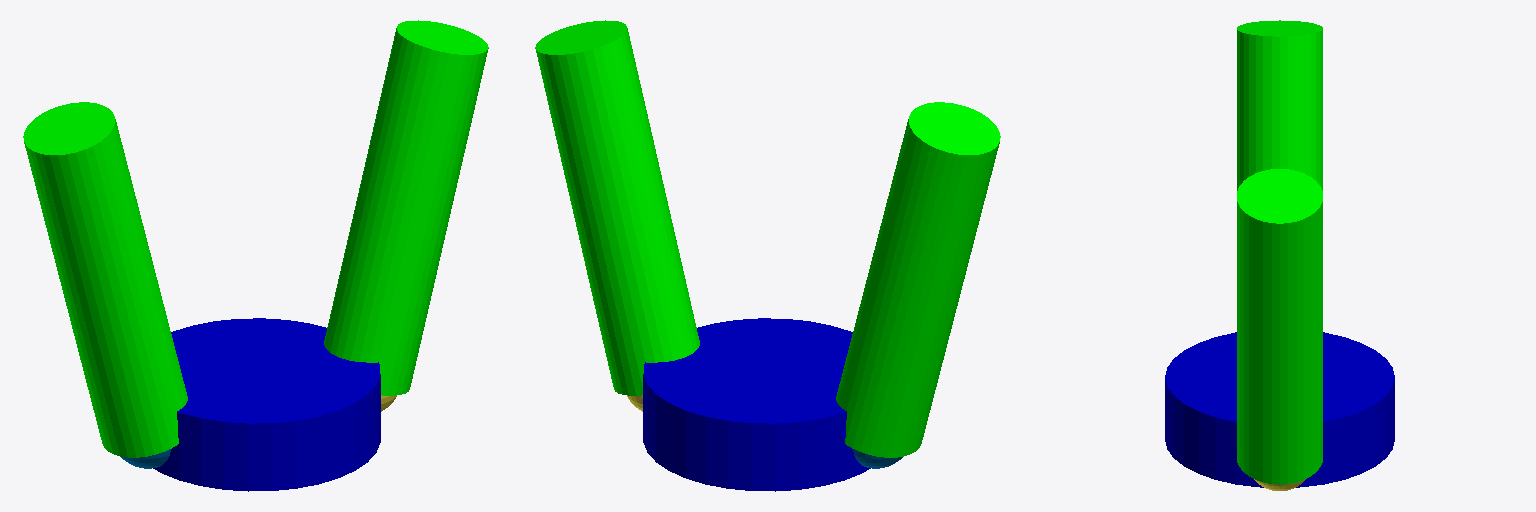
The robot description file, URDF, robot "gripper_2f_1j":
<?xml version='1.0' encoding='UTF-8'?>
<robot name="gripper_2f_1j">
  <link name="palm">
    <inertial>
      <origin xyz="0.0 0.0 0.0" rpy="0.0 -0.0 0.0"/>
      <mass value="1.0"/>
      <inertia ixx="1.0" ixy="0.0" ixz="0.0" iyy="1.0" iyz="0.0" izz="1.0"/>
    </inertial>
    <visual>
      <geometry>
        <cylinder radius="0.05" length="0.03"/>
      </geometry>
      <material name="blue"/>
      <origin xyz="0.0 0.0 0.0" rpy="0.0 -0.0 0.0"/>
    </visual>
    <collision>
      <geometry>
        <cylinder radius="0.05" length="0.03"/>
      </geometry>
      <origin xyz="0.0 0.0 0.0" rpy="0.0 0.0 0.0"/>
    </collision>
  </link>
  <link name="f11">
    <inertial>
      <origin xyz="0.0 0.0 0.0" rpy="0.0 -0.0 0.0"/>
      <mass value="1.0"/>
      <inertia ixx="1.0" ixy="0.0" ixz="0.0" iyy="1.0" iyz="0.0" izz="1.0"/>
    </inertial>
    <visual>
      <geometry>
        <cylinder radius="0.01890600584976047" length="0.14670515770586923"/>
      </geometry>
      <material name="green"/>
      <origin xyz="0.0 0.0 0.07335257885293461" rpy="0.0 -0.0 0.0"/>
    </visual>
    <collision>
      <geometry>
        <cylinder radius="0.01890600584976047" length="0.14670515770586923"/>
      </geometry>
      <origin xyz="0.0 0.0 0.05" rpy="0.0 0.0 0.0"/>
    </collision>
  </link>
  <link name="f21">
    <inertial>
      <origin xyz="0.0 0.0 0.0" rpy="0.0 -0.0 0.0"/>
      <mass value="1.0"/>
      <inertia ixx="1.0" ixy="0.0" ixz="0.0" iyy="1.0" iyz="0.0" izz="1.0"/>
    </inertial>
    <visual>
      <geometry>
        <cylinder radius="0.01890600584976047" length="0.14670515770586923"/>
      </geometry>
      <material name="green"/>
      <origin xyz="0.0 0.0 0.07335257885293461" rpy="0.0 -0.0 0.0"/>
    </visual>
    <collision>
      <geometry>
        <cylinder radius="0.01890600584976047" length="0.14670515770586923"/>
      </geometry>
      <origin xyz="0.0 0.0 0.05" rpy="0.0 0.0 0.0"/>
    </collision>
  </link>
  <link name="f11_base">
    <inertial>
      <origin xyz="0.0 0.0 0.0" rpy="0.0 -0.0 0.0"/>
      <mass value="1.0"/>
      <inertia ixx="1.0" ixy="0.0" ixz="0.0" iyy="1.0" iyz="0.0" izz="1.0"/>
    </inertial>
    <visual>
      <geometry>
        <sphere radius="0.015"/>
      </geometry>
      <origin xyz="0.0 0.0 0.0" rpy="0.0 -0.0 0.0"/>
    </visual>
  </link>
  <link name="f21_base">
    <inertial>
      <origin xyz="0.0 0.0 0.0" rpy="0.0 -0.0 0.0"/>
      <mass value="1.0"/>
      <inertia ixx="1.0" ixy="0.0" ixz="0.0" iyy="1.0" iyz="0.0" izz="1.0"/>
    </inertial>
    <visual>
      <geometry>
        <sphere radius="0.015"/>
      </geometry>
      <origin xyz="0.0 0.0 0.0" rpy="0.0 -0.0 0.0"/>
    </visual>
  </link>
  <joint name="f11_joint" type="revolute">
    <dynamics damping="100.0" friction="1.0"/>
    <limit effort="30.0" velocity="2.0" lower="-0.6" upper="0.25"/>
    <parent link="f11_base"/>
    <child link="f11"/>
    <axis xyz="0. 1. 0."/>
    <origin xyz="0.0 0.0 0.0" rpy="0.0 0.25 0.0"/>
  </joint>
  <joint name="f21_joint" type="revolute">
    <dynamics damping="100.0" friction="1.0"/>
    <limit effort="30.0" velocity="2.0" lower="-0.6" upper="0.25"/>
    <parent link="f21_base"/>
    <child link="f21"/>
    <axis xyz=" 0. -1.  0."/>
    <origin xyz="0.0 0.0 0.0" rpy="0.0 -0.25 0.0"/>
  </joint>
  <joint name="f11_base_joint" type="fixed">
    <parent link="palm"/>
    <child link="f11_base"/>
    <axis xyz="1. 0. 0."/>
    <origin xyz="0.05 0.0 0.0" rpy="0.0 0.0 0.0"/>
  </joint>
  <joint name="f21_base_joint" type="fixed">
    <parent link="palm"/>
    <child link="f21_base"/>
    <axis xyz="1. 0. 0."/>
    <origin xyz="-0.05 -0.0 0.0" rpy="0.0 0.0 0.0"/>
  </joint>
  <material name="blue">
    <color rgba="0.  0.  0.8 1. "/>
  </material>
  <material name="green">
    <color rgba="0. 1. 0. 1."/>
  </material>
</robot>

--- Facts derived from the render (not from the file) ---
Views: 3 orthographic renders of the robot side by side, from view 1: azimuth 30°, elevation 25°; view 2: azimuth 150°, elevation 25°; view 3: azimuth 270°, elevation 25°.
Robot: gripper_2f_1j — 5 links, 4 joints (2 revolute, 2 fixed); root link palm; default pose: all joints at 0.
Links seen in each view (by area): view 1: f11, f21, palm; view 2: f11, f21, palm; view 3: f11, palm, f21.
Boxes of the visible links, x1,y1,x2,y2 form: f11: [324, 20, 488, 395]; f21: [23, 102, 187, 457]; palm: [153, 318, 380, 491]; f11: [535, 20, 699, 395]; f21: [836, 102, 1000, 457]; palm: [643, 318, 870, 491]; f11: [1237, 169, 1322, 484]; palm: [1165, 332, 1394, 487]; f21: [1237, 20, 1322, 190].
Bounding box of the posed robot: 0.2092 × 0.1 × 0.1618 m (x, y, z).
Geometry: primitives only (box / cylinder / sphere), no mesh files.